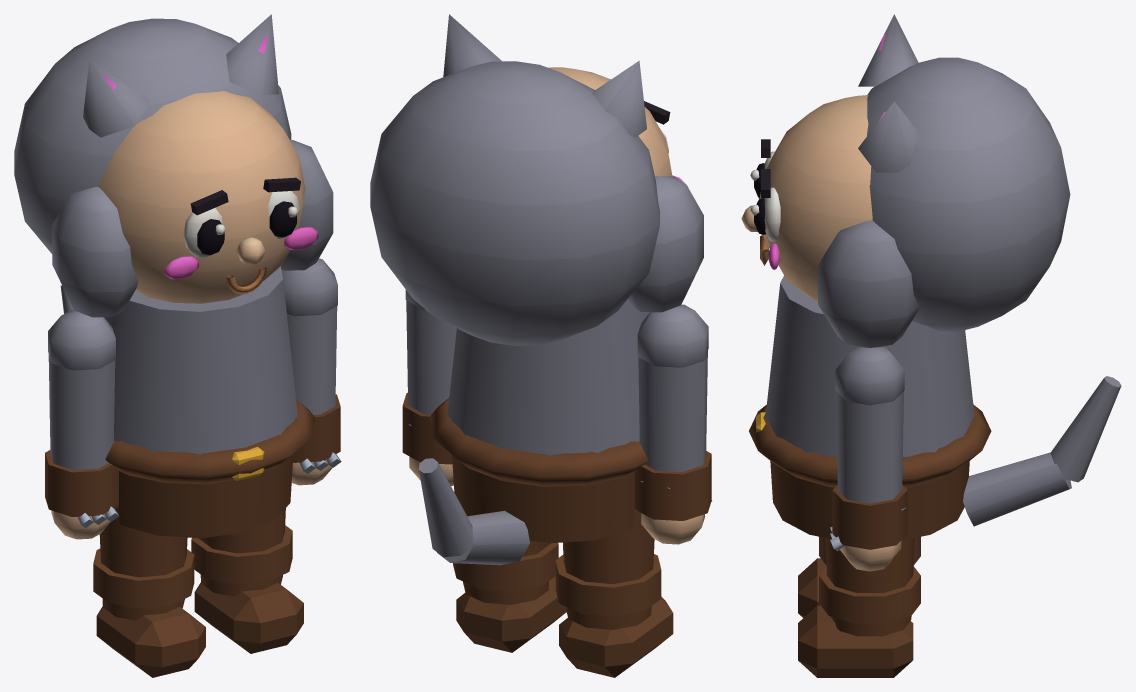
Rendered from hero_rook.glb.
3 renders of one model, left to right at view 1: azimuth 30°, elevation 25°; view 2: azimuth 150°, elevation 25°; view 3: azimuth 270°, elevation 25°, orthographic. The views are drawn at different scales.
Visible parts, largest first — view 1: body_t0_palette, arml_t0_palette, legl_t0_palette, legr_t0_palette, armr_t0_palette; view 2: body_t0_palette, arml_t0_palette, legl_t0_palette, legr_t0_palette, armr_t0_palette; view 3: body_t0_palette, armr_t0_palette, legr_t0_palette, legl_t0_palette.
Boxes of the visible parts, x1,y1,x2,y2 form: body_t0_palette: (14,14,333,538); arml_t0_palette: (45,310,119,539); legl_t0_palette: (93,507,205,677); legr_t0_palette: (191,508,303,653); armr_t0_palette: (281,258,341,485); body_t0_palette: (370,14,703,565); arml_t0_palette: (634,304,712,544); legl_t0_palette: (555,510,673,677); legr_t0_palette: (453,541,566,652); armr_t0_palette: (402,290,456,486); body_t0_palette: (741,14,1121,540); armr_t0_palette: (830,346,907,571); legr_t0_palette: (798,538,920,677); legl_t0_palette: (798,536,920,617).
Bounding box in the file's own units: 0.27 × 0.5344 × 0.3132.
